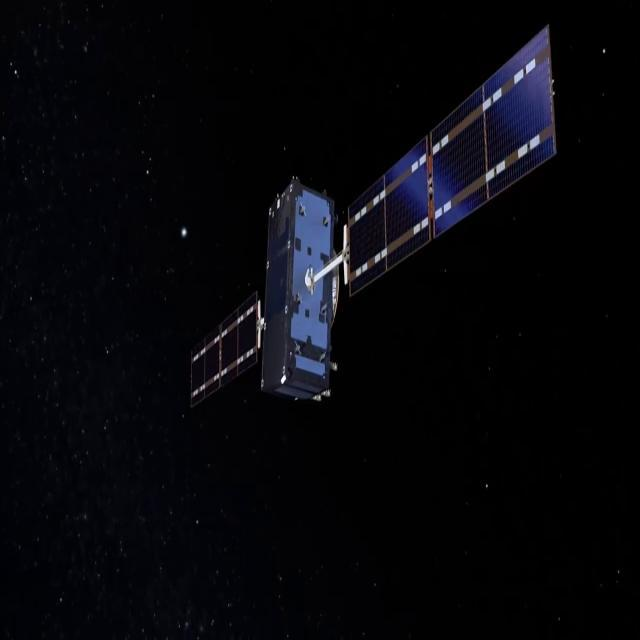sat: (143, 32, 581, 468)
